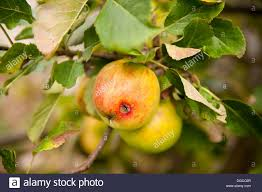apple: (122, 116, 186, 154)
damaged_apple: (93, 62, 162, 127)
